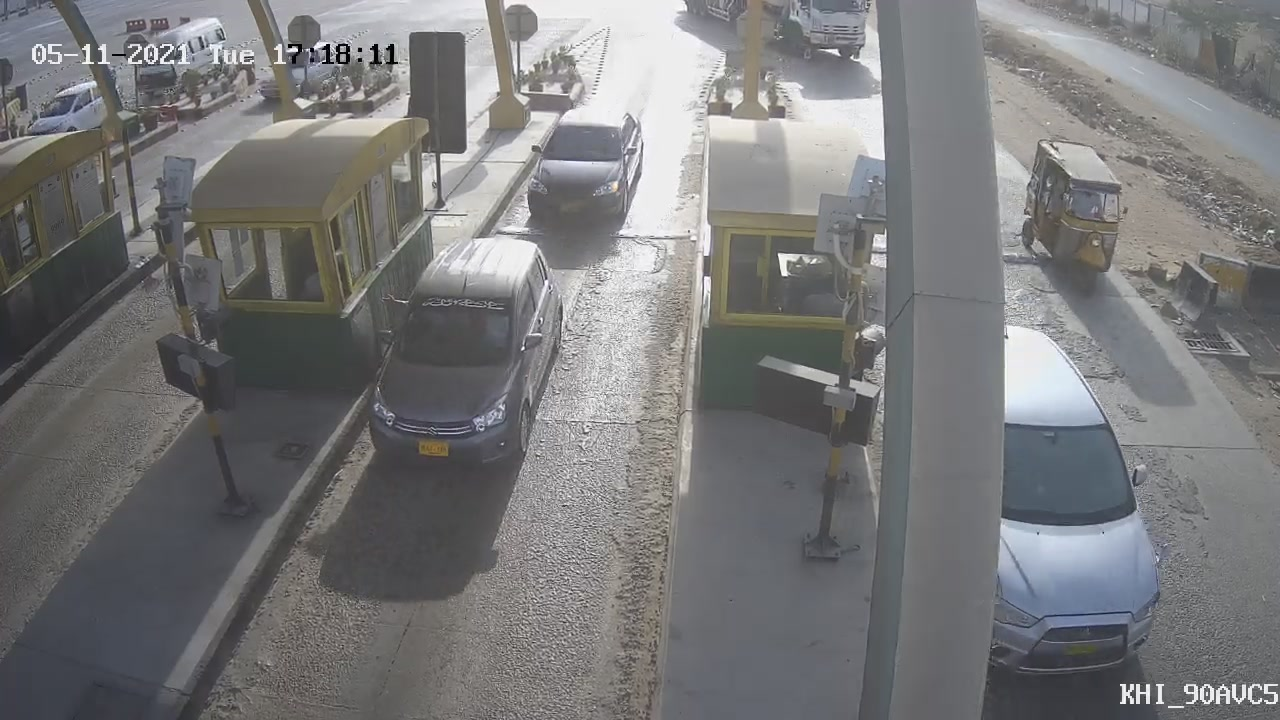F1: (340, 222, 589, 490), (501, 86, 657, 248)
